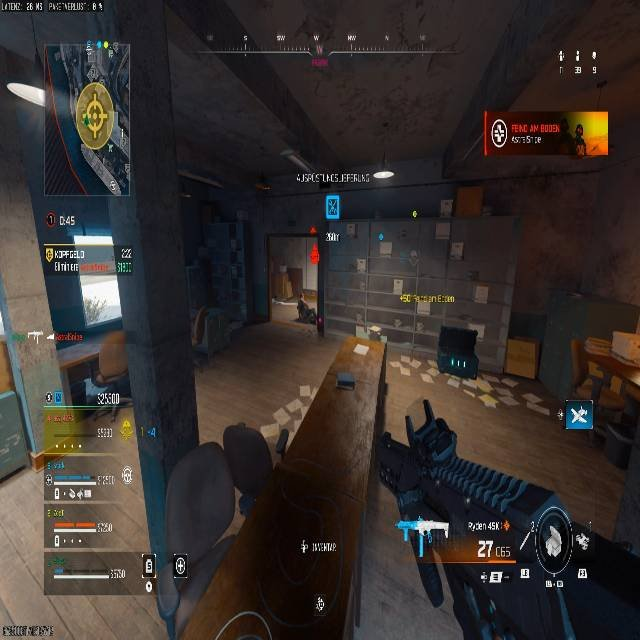player: (304, 304, 326, 339), (295, 298, 314, 322)
